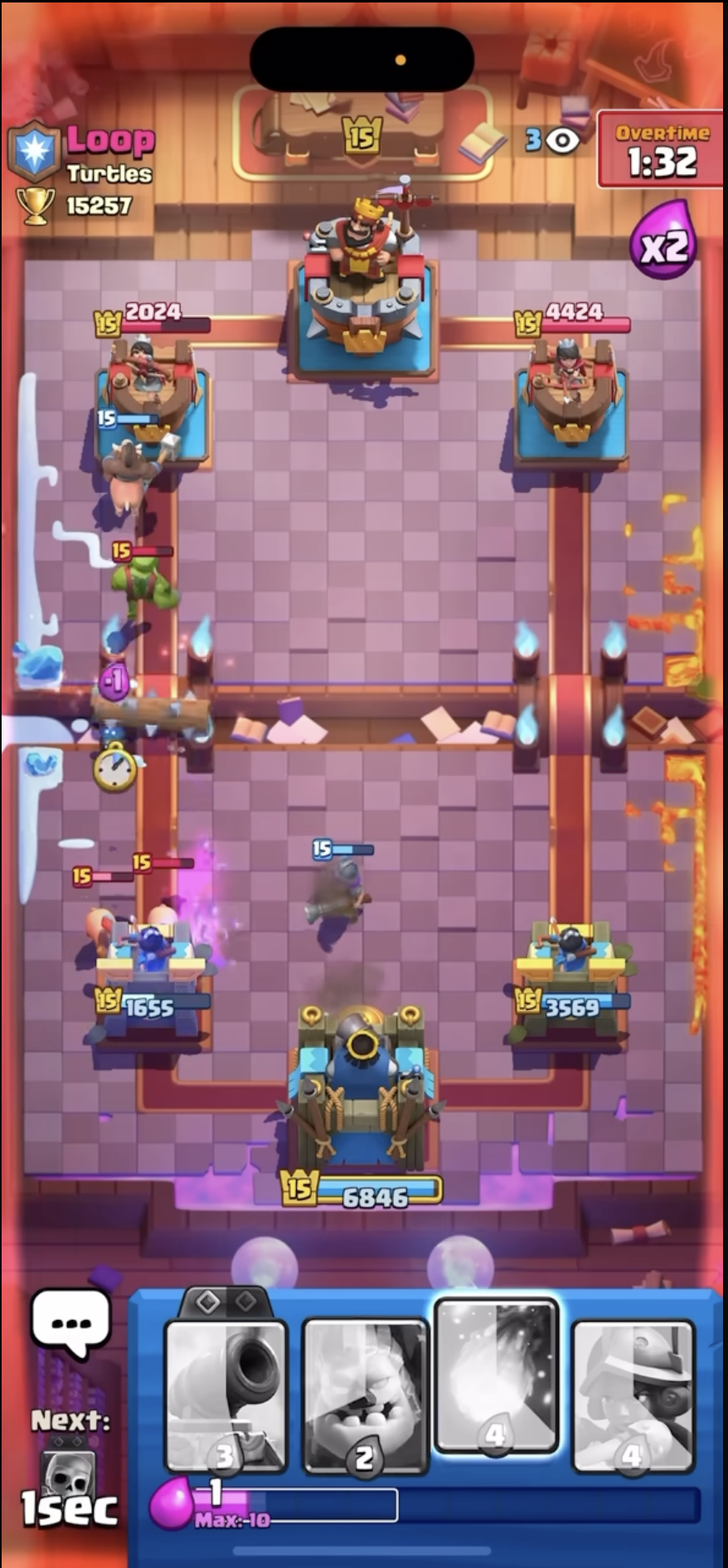hog-rider: (80, 405, 188, 520)
log: (84, 665, 225, 743)
musketeer: (289, 829, 396, 938)
